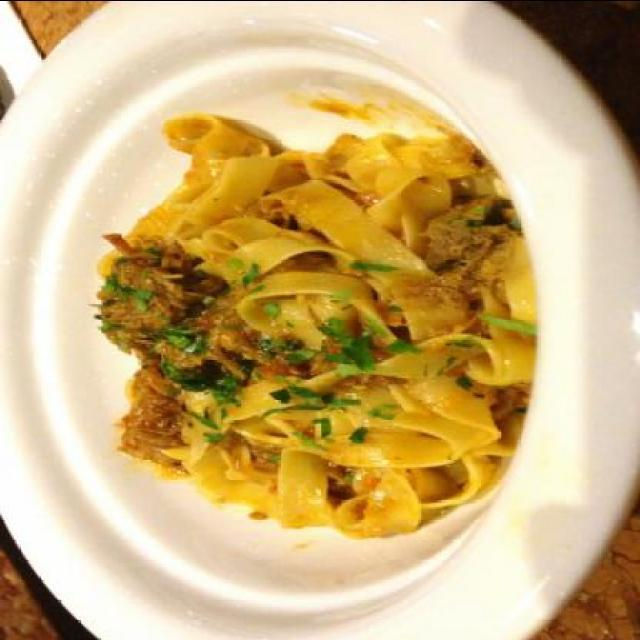Pasta al ragu: (55, 70, 559, 522)
